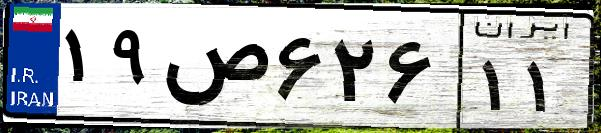1: (57, 26, 110, 100), (475, 38, 525, 113), (525, 38, 570, 115)
2: (330, 28, 385, 110)
6: (270, 28, 330, 110), (385, 28, 445, 110)
9: (110, 28, 158, 98)
ص: (158, 20, 270, 120)
